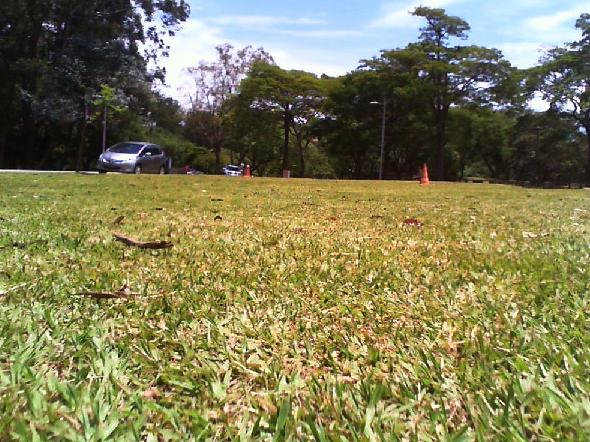0 cone: (419, 163, 429, 185), (245, 165, 251, 177)
